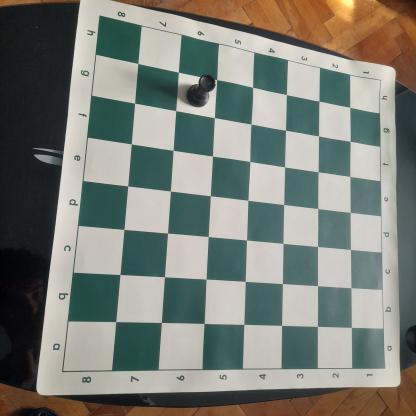black-rook: (184, 71, 216, 109)
